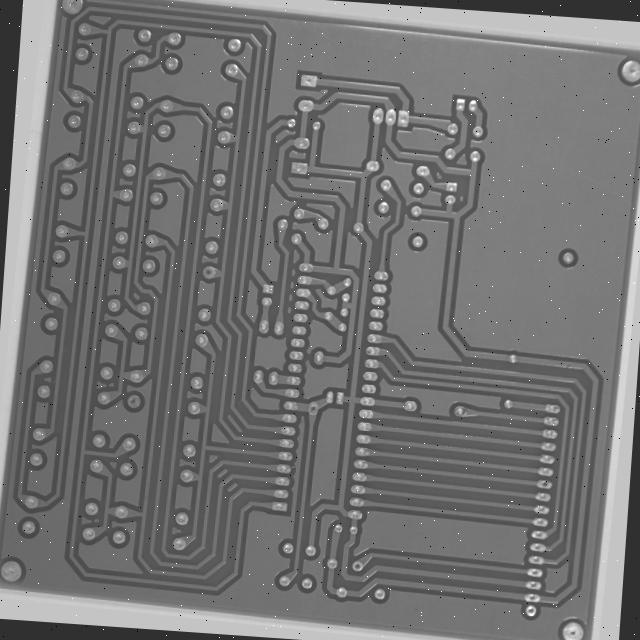missing_hole: (193, 266, 211, 283), (358, 564, 375, 581), (548, 473, 565, 489), (121, 402, 137, 418), (309, 402, 322, 420)
